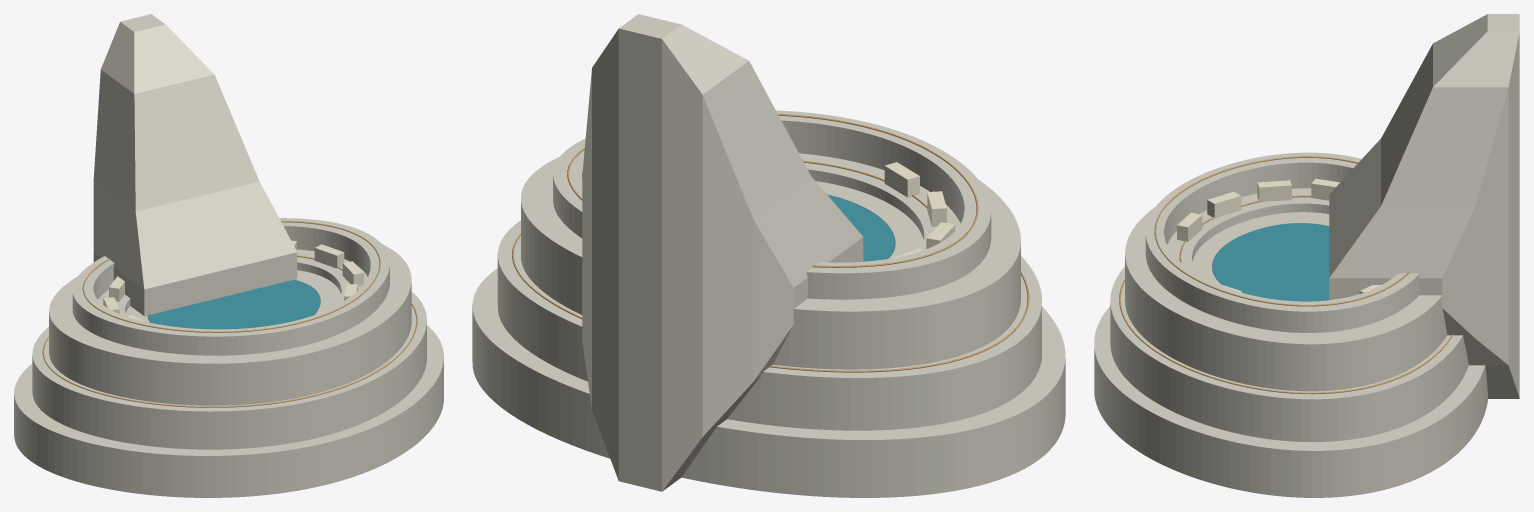
The model's file is study.glb.
The picture shows the model from 3 angles, left to right: view 1: azimuth 30°, elevation 25°; view 2: azimuth 150°, elevation 25°; view 3: azimuth 270°, elevation 25°; orthographic projection. The views are drawn at different scales.
Visible parts, largest first — view 1: N2 / inhabited maritime plate, N2 / rising headland 0, N2 / rising headland 1, N2 / rising headland 2, N2 / level inland sea, Coastal civic route 1850, Coastal civic route 1050, Coastal public institution 8; view 2: N2 / inhabited maritime plate, N2 / rising headland 2, N2 / rising headland 1, N2 / rising headland 0, N2 / level inland sea, Coastal civic route 1850, Coastal civic route 1050, Coastal public institution 0; view 3: N2 / inhabited maritime plate, N2 / rising headland 1, N2 / rising headland 0, N2 / rising headland 2, N2 / level inland sea, Coastal civic route 1850, Coastal civic route 1050, Coastal public institution 2, Coastal public institution 1, Coastal public institution 0.
Boxes of the visible parts, x1,y1,x2,y2 form: N2 / inhabited maritime plate: (14, 218, 443, 497); N2 / rising headland 0: (93, 181, 297, 316); N2 / rising headland 1: (93, 70, 259, 211); N2 / rising headland 2: (101, 14, 214, 93); N2 / level inland sea: (148, 280, 320, 329); Coastal civic route 1850: (82, 221, 380, 332); Coastal civic route 1050: (42, 303, 417, 407); Coastal public institution 8: (314, 244, 344, 268); N2 / inhabited maritime plate: (472, 110, 1065, 497); N2 / rising headland 2: (592, 14, 748, 491); N2 / rising headland 1: (582, 61, 811, 436); N2 / rising headland 0: (753, 176, 863, 381); N2 / level inland sea: (827, 195, 894, 261); Coastal civic route 1850: (567, 114, 978, 267); Coastal civic route 1050: (512, 233, 1029, 372); Coastal public institution 0: (884, 162, 919, 197); N2 / inhabited maritime plate: (1094, 152, 1487, 497); N2 / rising headland 1: (1381, 44, 1508, 365); N2 / rising headland 0: (1329, 139, 1475, 338); N2 / rising headland 2: (1433, 14, 1519, 398); N2 / level inland sea: (1212, 223, 1329, 301); Coastal civic route 1850: (1154, 156, 1409, 306); Coastal civic route 1050: (1119, 279, 1453, 394); Coastal public institution 2: (1257, 180, 1291, 201); Coastal public institution 1: (1207, 191, 1241, 218); Coastal public institution 0: (1177, 212, 1202, 241).
Bounding box in the file's own units: 5398 × 4300 × 4510.
